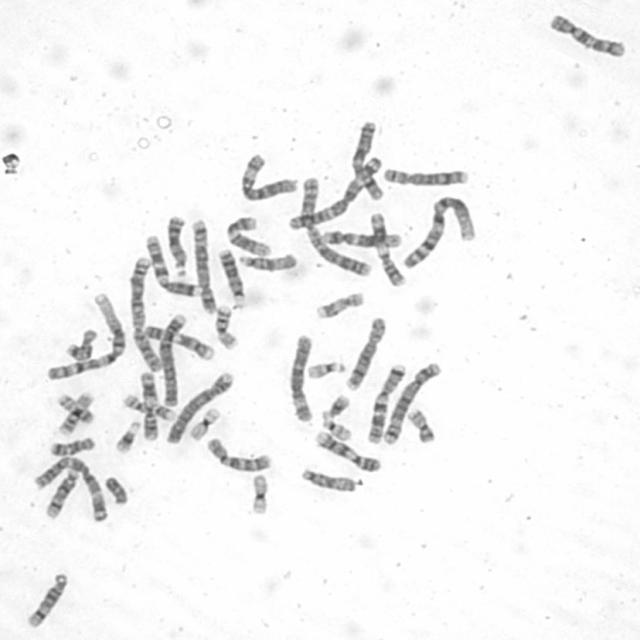A1: (43, 288, 129, 382), (399, 192, 479, 272)
A2: (297, 173, 372, 279), (125, 253, 164, 373)
A3: (284, 153, 385, 231), (30, 452, 109, 524)
B4: (163, 368, 236, 446), (157, 309, 189, 408)
B5: (377, 360, 443, 445), (189, 216, 217, 316)
C10: (545, 10, 628, 60), (202, 434, 274, 474)
C11: (366, 209, 408, 288), (137, 369, 160, 442)
C12: (223, 213, 272, 258), (319, 227, 404, 250)
C6: (235, 151, 301, 202), (286, 331, 316, 423)
C7: (142, 232, 202, 298), (363, 361, 409, 445)
C8: (342, 314, 388, 392), (379, 164, 470, 188)
C9: (312, 428, 382, 474), (140, 322, 215, 361)
D13: (216, 244, 247, 306), (164, 212, 189, 277)
D14: (22, 570, 70, 629), (42, 465, 81, 520)
D15: (298, 466, 357, 493), (234, 250, 299, 273)
E16: (54, 389, 96, 436), (212, 302, 240, 350)
E17: (311, 288, 367, 322), (121, 390, 176, 422)
E18: (62, 325, 100, 361), (48, 433, 96, 457)
F19: (185, 404, 222, 442), (248, 470, 271, 516)
F20: (405, 404, 437, 444), (56, 392, 95, 424)
G21: (113, 417, 142, 455), (318, 391, 352, 421)
G22: (317, 415, 355, 442), (304, 357, 348, 380)
X: (348, 119, 388, 202)
Y: (101, 472, 131, 506)
